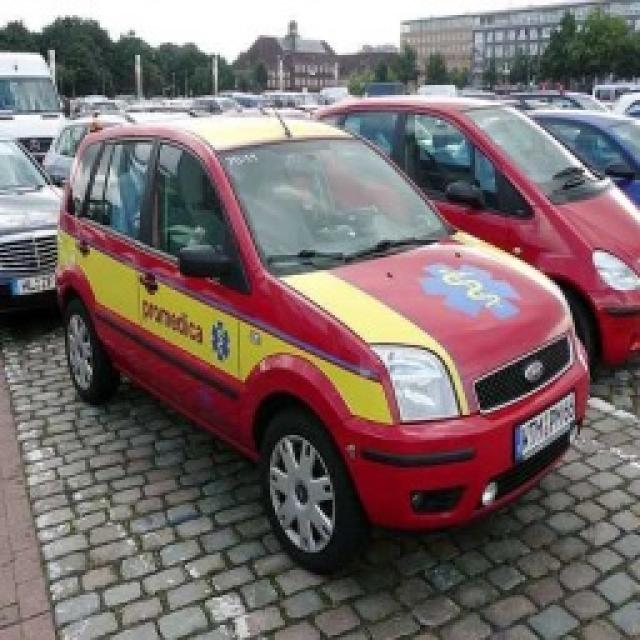emergency-vehicle: (42, 81, 578, 572)
